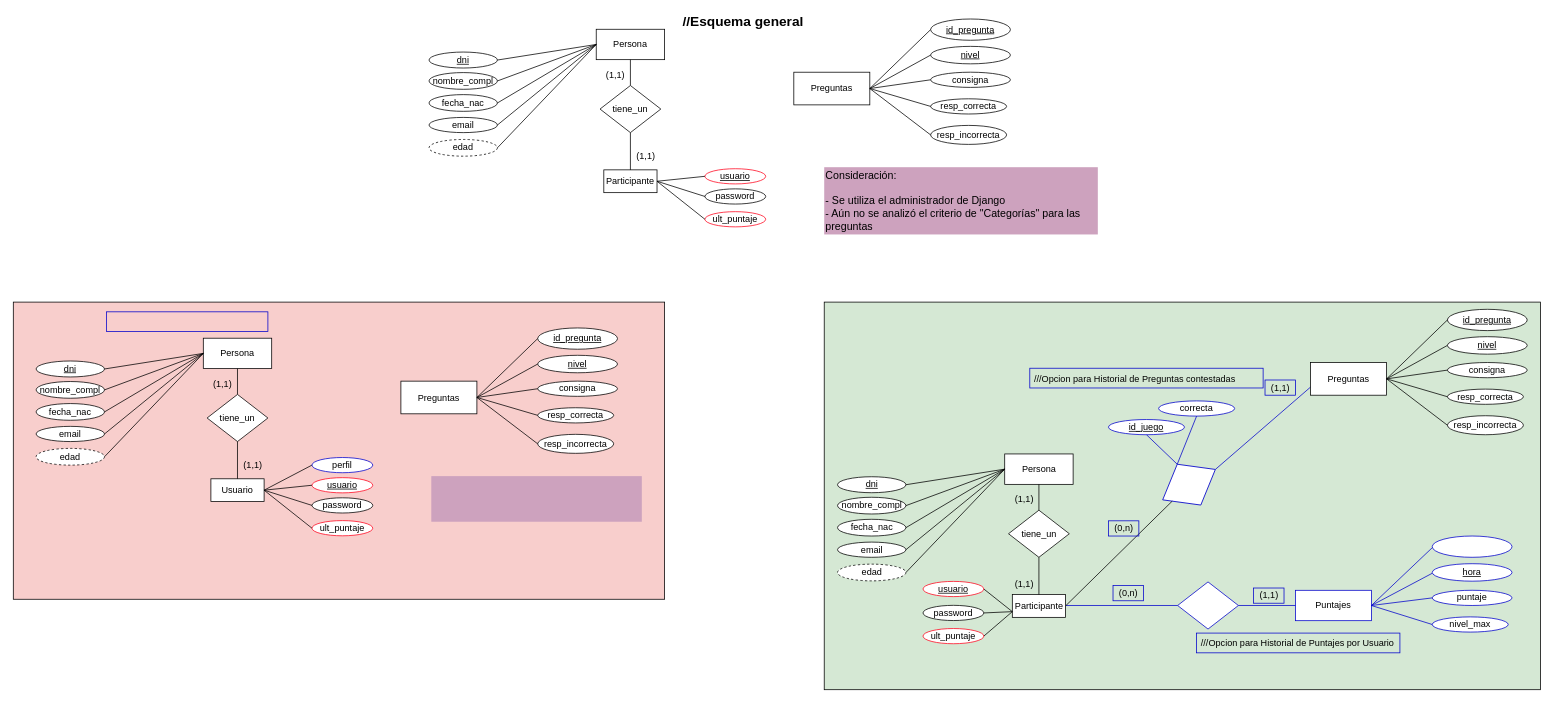
Image size: 1554x703. Some labels were removed from this diagram. Here are the shapes that lost their labels. From the top down, the centre of each, then its label:
the point at 187,321: ///Opcion sin usar el admin de Django
the point at 536,498: Consideración: - No se utiliza el administrador de Django
the point at 1188,484: responde
the point at 1471,546: fecha_hora
the point at 1207,605: posee
